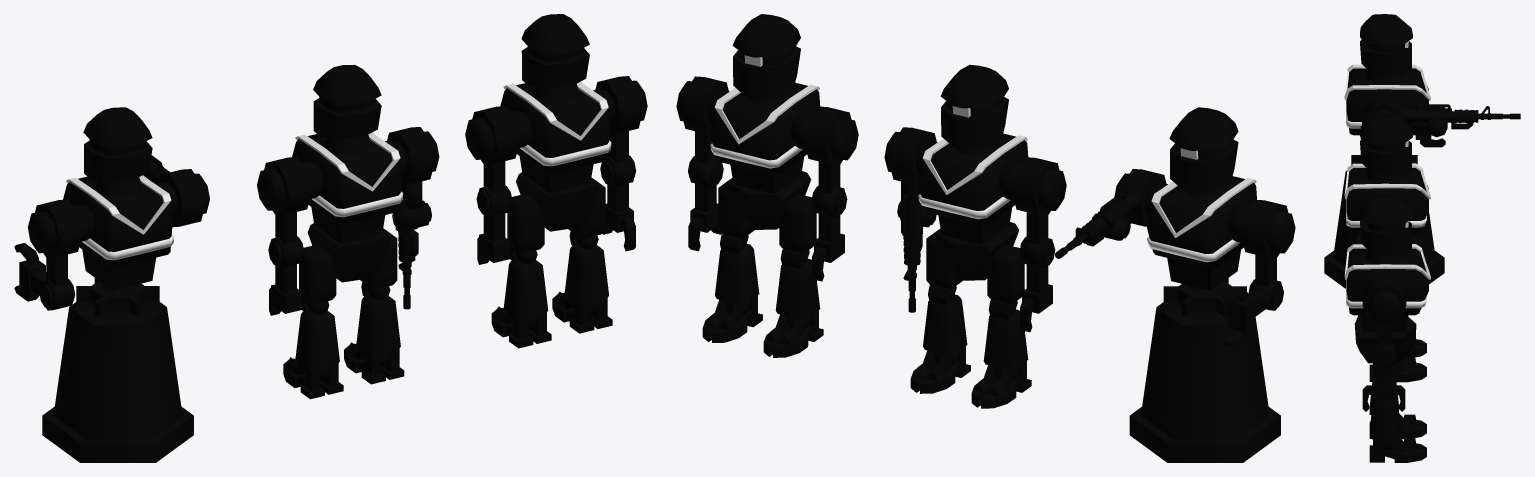
Rendered from Robots 1lvl.fbx.
The picture shows the model from 3 angles, left to right: view 1: azimuth 30°, elevation 25°; view 2: azimuth 150°, elevation 25°; view 3: azimuth 270°, elevation 25°; orthographic projection. The views are drawn at different scales.
Parts seen in each view (by area): view 1: Robot 1lvl 3V1, Robot 1lvl 3V2, Robot 1 lvl.004, Robot 1 lvl.001, Robot 1 lvl.015, Robot 1 lvl.010, Robot 1 lvl.008, Robot 1 lvl.013, Robot 1 lvl.016, Robot 1 lvl.011, Robot 1 lvl.009, Robot 1 lvl.014 (+3 smaller); view 2: Robot 1lvl 3V1, Robot 1lvl 3V2, Robot 1 lvl.001, Robot 1 lvl.004, Robot 1 lvl.015, Robot 1 lvl.010, Robot 1 lvl.008, Robot 1 lvl.013, Robot 1 lvl.016, Robot 1 lvl.011, Robot 1 lvl.009, Robot 1 lvl.014 (+3 smaller); view 3: Robot 1lvl 3V1, Robot 1 lvl.001, Robot 1 lvl.004, Robot 1 lvl.009, Robot 1 lvl.011, Robot 1lvl 3V2, Eyes.005, Eyes.002, Eyes.004, Robot 1 lvl.010, Robot 1 lvl.016, Robot 1 lvl.015.
Boxes of the visible parts, <box> form: Robot 1lvl 3V1: <box>14,107,209,316</box>; Robot 1lvl 3V2: <box>42,284,193,462</box>; Robot 1 lvl.004: <box>292,64,406,282</box>; Robot 1 lvl.001: <box>500,14,615,231</box>; Robot 1 lvl.015: <box>283,244,343,399</box>; Robot 1 lvl.010: <box>491,193,551,348</box>; Robot 1 lvl.008: <box>465,106,519,264</box>; Robot 1 lvl.013: <box>257,157,311,315</box>; Robot 1 lvl.016: <box>344,228,404,384</box>; Robot 1 lvl.011: <box>552,177,612,333</box>; Robot 1 lvl.009: <box>595,76,647,251</box>; Robot 1 lvl.014: <box>387,127,439,309</box>; Robot 1lvl 3V1: <box>1055,107,1295,346</box>; Robot 1lvl 3V2: <box>1129,284,1280,462</box>; Robot 1 lvl.001: <box>707,14,820,229</box>; Robot 1 lvl.004: <box>915,64,1028,280</box>; Robot 1 lvl.015: <box>971,244,1031,408</box>; Robot 1 lvl.010: <box>763,194,823,357</box>; Robot 1 lvl.008: <box>804,106,858,281</box>; Robot 1 lvl.013: <box>1012,157,1066,332</box>; Robot 1 lvl.016: <box>910,228,970,393</box>; Robot 1 lvl.011: <box>702,178,762,342</box>; Robot 1 lvl.009: <box>676,76,728,251</box>; Robot 1 lvl.014: <box>884,127,936,312</box>; Robot 1lvl 3V1: <box>1346,14,1520,164</box>; Robot 1 lvl.001: <box>1346,194,1428,363</box>; Robot 1 lvl.004: <box>1346,113,1428,244</box>; Robot 1 lvl.009: <box>1362,276,1406,411</box>; Robot 1 lvl.011: <box>1369,360,1426,462</box>; Robot 1lvl 3V2: <box>1324,170,1444,288</box>; Eyes.005: <box>1344,221,1430,308</box>; Eyes.002: <box>1344,140,1430,227</box>; Eyes.004: <box>1344,41,1430,128</box>; Robot 1 lvl.010: <box>1369,362,1426,439</box>; Robot 1 lvl.016: <box>1369,357,1426,382</box>; Robot 1 lvl.015: <box>1405,337,1426,357</box>.
Bounding box in the file's own units: 3.87 × 1.38 × 1.98.
